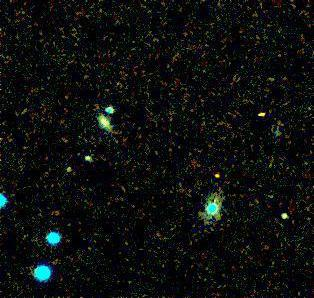star: (202, 158, 232, 188)
